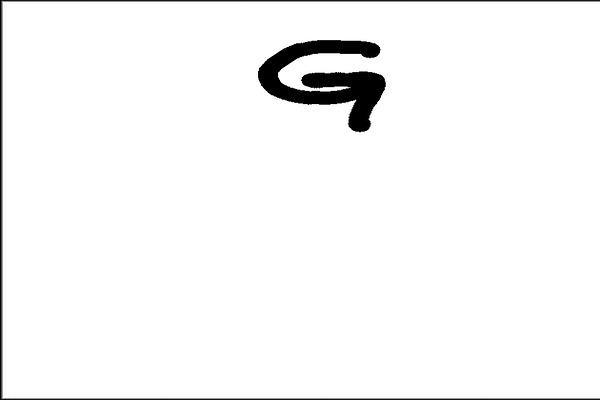G: (253, 34, 386, 138)
